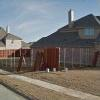Chimney: (61, 6, 77, 29)
